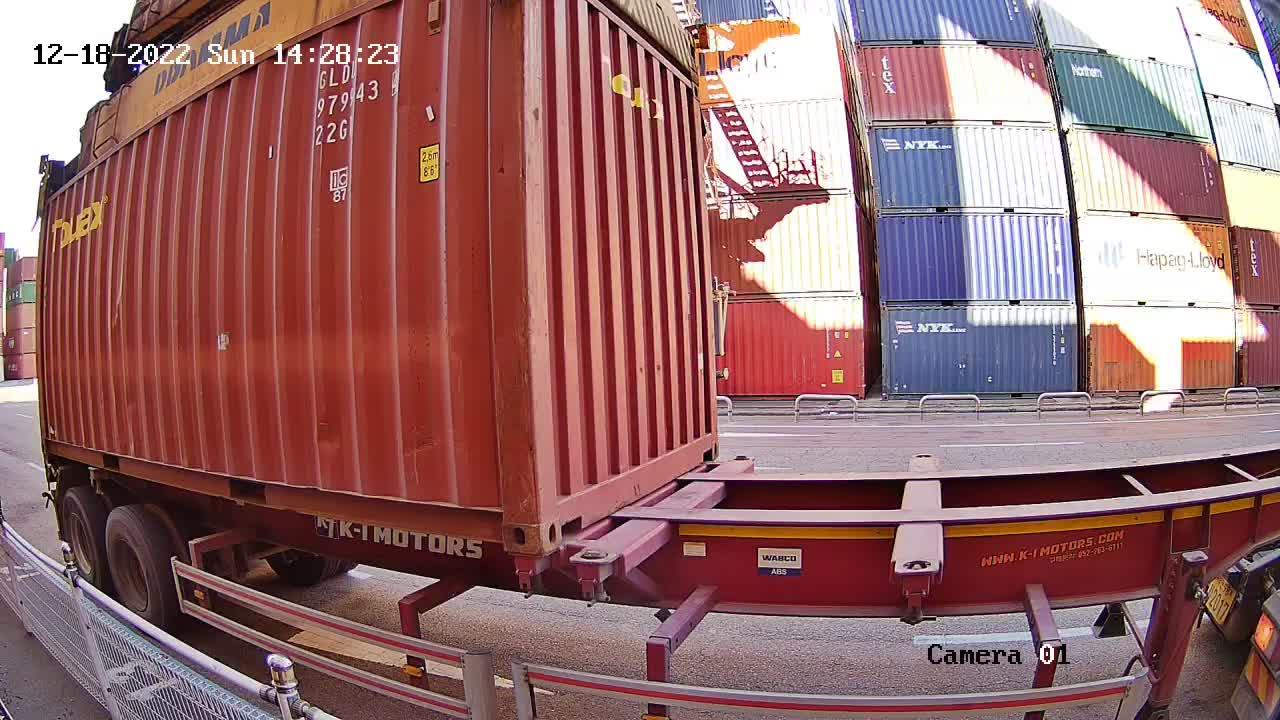Chassis: (571, 456, 754, 582)
Cone: (568, 548, 626, 607), (507, 554, 544, 595)
Hole_L: (540, 477, 584, 555)
Hole_R: (478, 485, 540, 553), (685, 416, 722, 467)
Tire: (104, 510, 158, 614), (57, 495, 99, 583)
